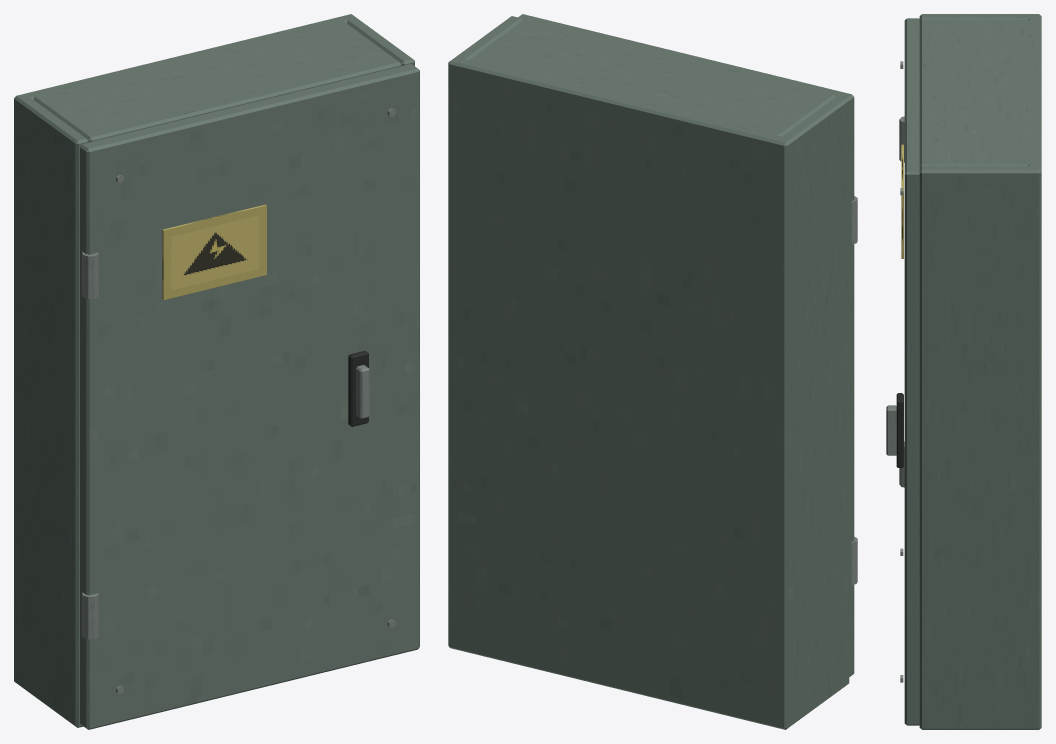
Rendered from breaker_panel_closed.glb.
3 renders of one model, left to right at view 1: azimuth 30°, elevation 25°; view 2: azimuth 150°, elevation 25°; view 3: azimuth 270°, elevation 25°, orthographic. The views are drawn at different scales.
Visible parts, largest first — view 1: breaker_panel_closed; view 2: breaker_panel_closed; view 3: breaker_panel_closed.
Boxes of the visible parts, left/top/right/bottom form: breaker_panel_closed: left=14, top=14, right=419, bottom=729; breaker_panel_closed: left=448, top=14, right=857, bottom=729; breaker_panel_closed: left=886, top=14, right=1041, bottom=729.
Size of the model in its own units: 0.46 by 0.76 by 0.191.
4 materials, 4 textured.
